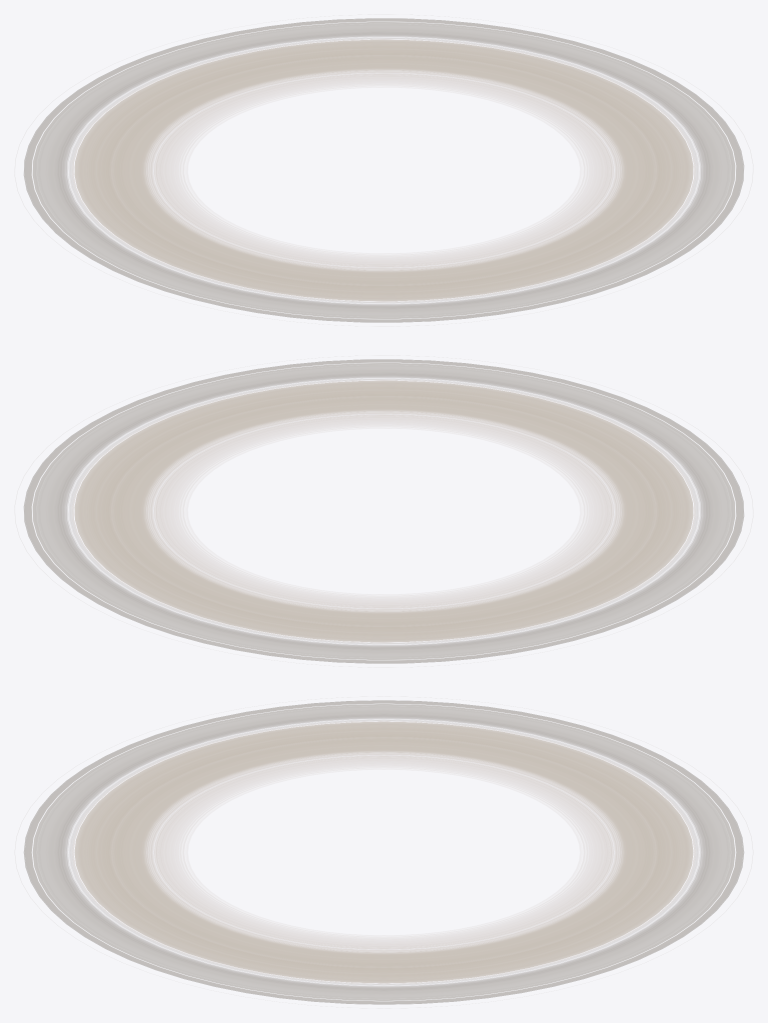
Rendered from saturnRing.glb.
The picture shows the model from 3 angles, top to bottom: view 1: azimuth 30°, elevation 25°; view 2: azimuth 150°, elevation 25°; view 3: azimuth 270°, elevation 25°; orthographic projection.
Visible parts, largest first — view 1: RingsTop; view 2: RingsTop; view 3: RingsTop.
Boxes of the visible parts, x1,y1,x2,y2 form: RingsTop: (23, 18, 744, 322); RingsTop: (23, 359, 744, 663); RingsTop: (23, 700, 744, 1004).
Size of the model in its own units: 2331 by 0 by 2331.
1 material, 1 textured.
